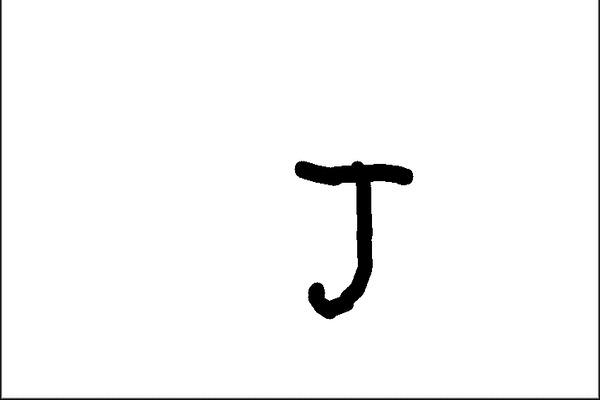J: (282, 150, 421, 326)
